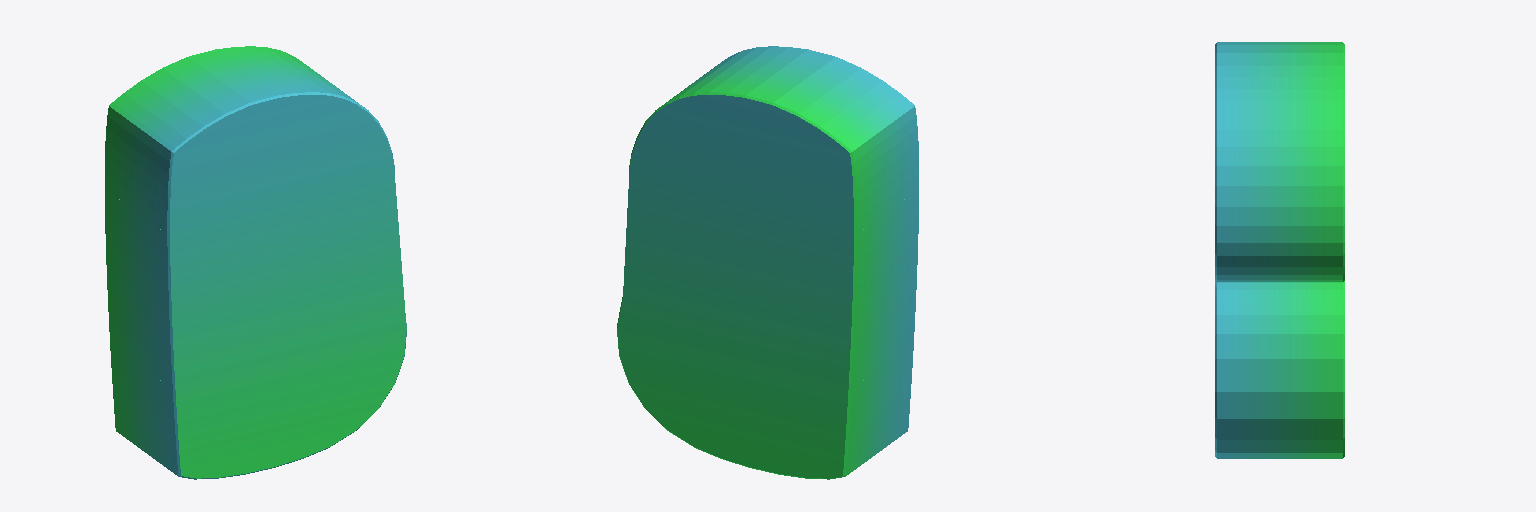
The picture shows the model from 3 angles: view 1: azimuth 30°, elevation 25°; view 2: azimuth 150°, elevation 25°; view 3: azimuth 270°, elevation 25°; orthographic projection.
Parts seen in each view (by area): view 1: polySurface4; view 2: polySurface4; view 3: polySurface4.
Part boxes in pixels (x1,y1,x2,y2): polySurface4: (105, 46, 406, 479); polySurface4: (617, 46, 918, 479); polySurface4: (1215, 42, 1344, 458).
Size of the model in its own units: 1.41 by 2.09 by 0.6578.
1 materials, 1 textured.